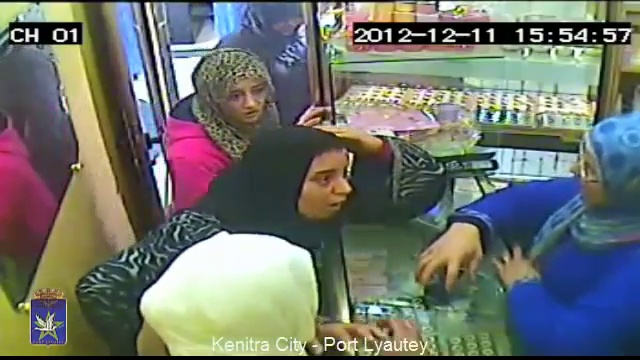face: (281, 151, 354, 214), (229, 75, 266, 120)
